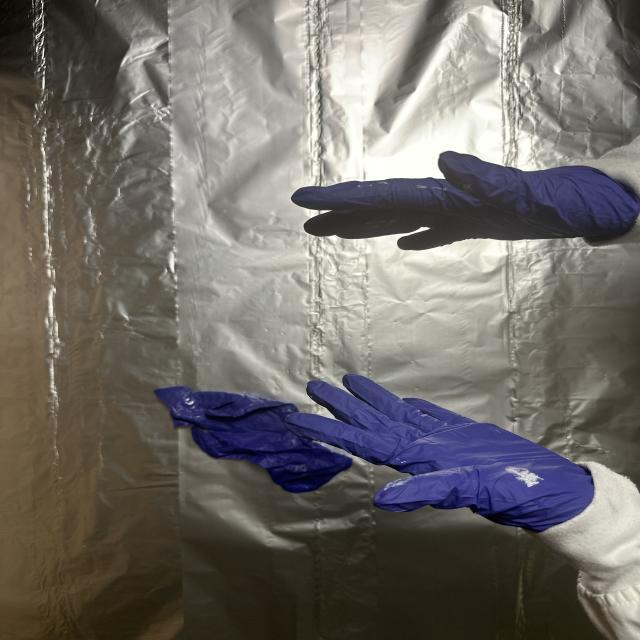gloves_contaminated: (287, 374, 594, 533), (292, 152, 640, 250)
